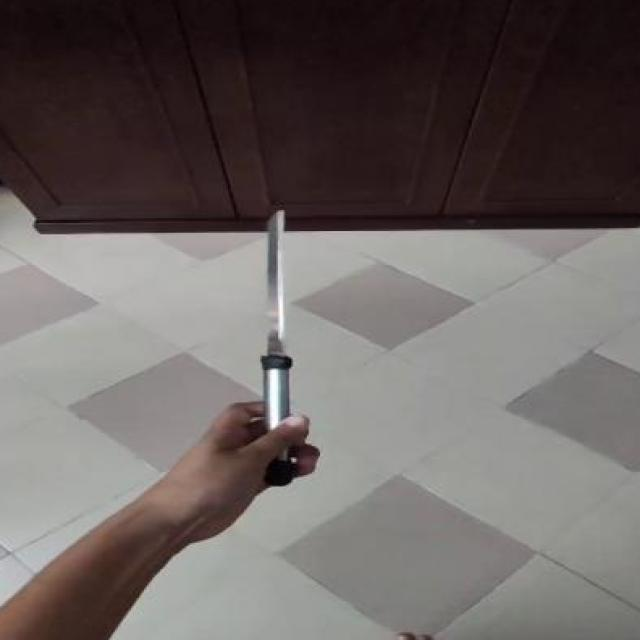Knife: (248, 197, 320, 478)
